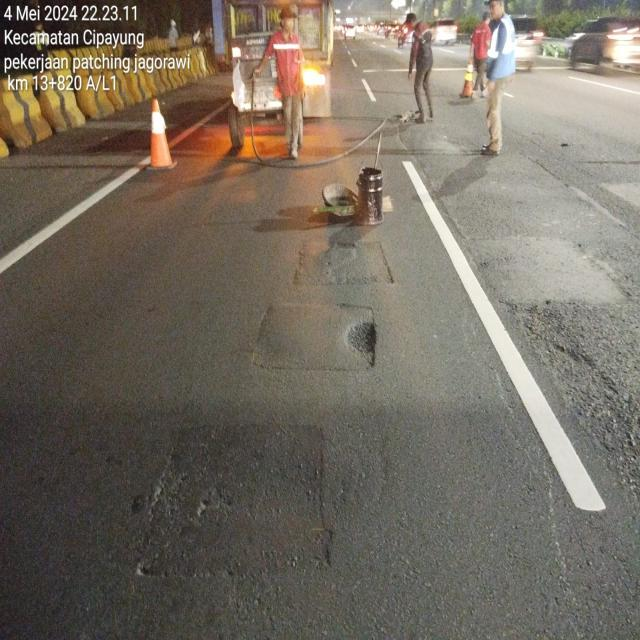Buraco: (341, 316, 380, 369), (559, 142, 571, 149)
